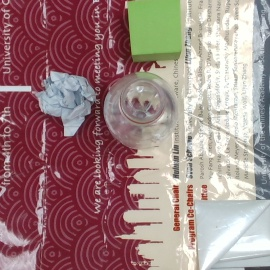bottle: (104, 73, 178, 149)
